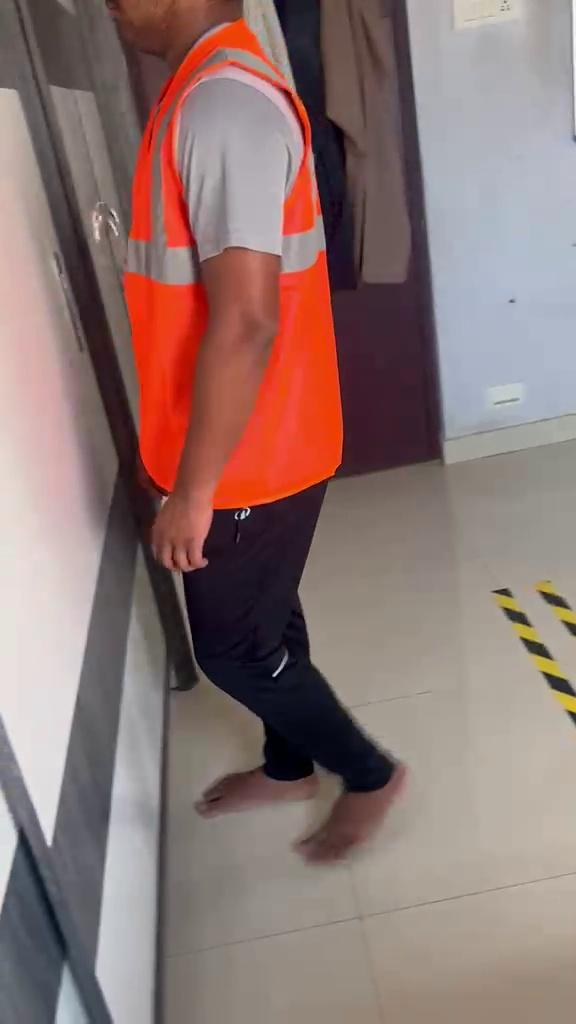BorderLine: (489, 580, 576, 727)
Person: (106, 0, 407, 865)
Vest: (123, 17, 344, 509)
